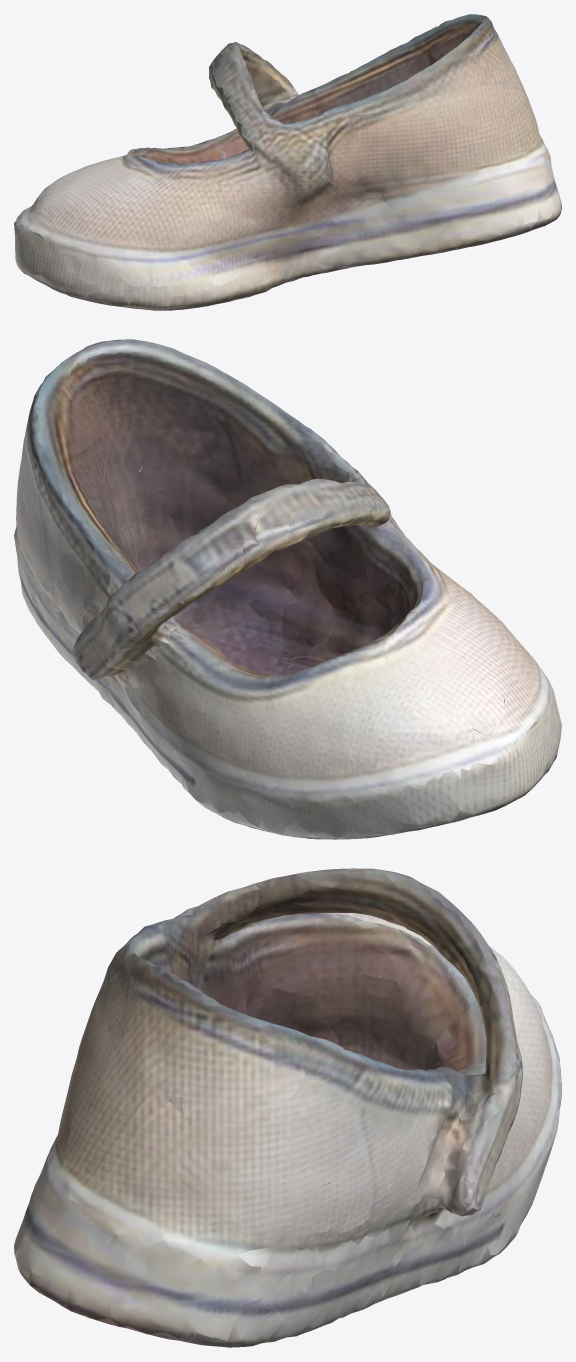
3 views of the same model, one above another, from view 1: azimuth 30°, elevation 25°; view 2: azimuth 150°, elevation 25°; view 3: azimuth 270°, elevation 25° (orthographic). The views are drawn at different scales.
Visible parts, largest first — view 1: world; view 2: world; view 3: world.
Part boxes in pixels (bbox=[...]): world: bbox=[14, 14, 561, 310]; world: bbox=[14, 339, 561, 839]; world: bbox=[14, 868, 561, 1347].
Bounding box in the file's own units: 1.01 × 0.5346 × 0.6323.
Materials: 1 (1 with a texture image).
